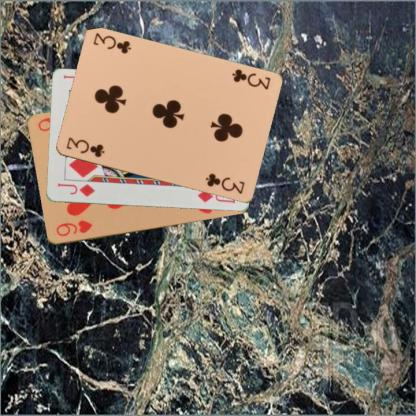3c: (228, 66, 272, 92), (63, 135, 106, 159)
9h: (53, 218, 94, 238)
Jd: (54, 181, 96, 198)
